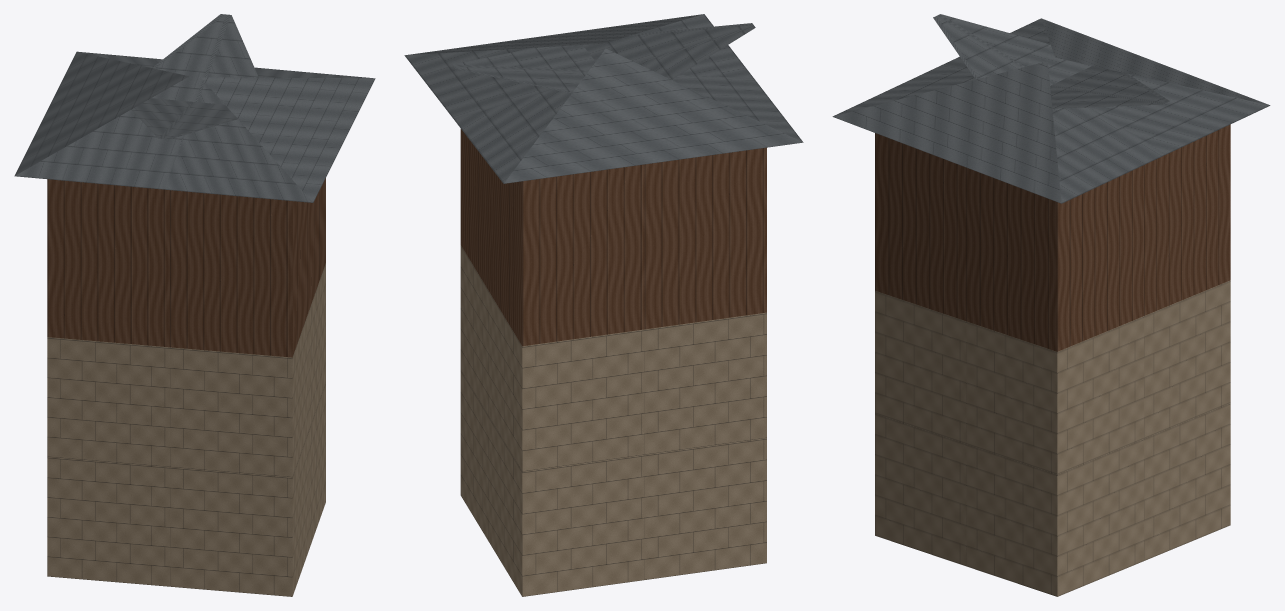
File: bld_c-5_25_608.gltf
The picture shows the model from 3 angles, left to right: view 1: azimuth 30°, elevation 25°; view 2: azimuth 150°, elevation 25°; view 3: azimuth 270°, elevation 25°; orthographic projection. The views are drawn at different scales.
Visible parts, largest first — view 1: bld_c-5_25_608; view 2: bld_c-5_25_608; view 3: bld_c-5_25_608.
Boxes of the visible parts, bbox=[...] form: bld_c-5_25_608: bbox=[14, 14, 375, 596]; bld_c-5_25_608: bbox=[404, 14, 803, 596]; bld_c-5_25_608: bbox=[832, 14, 1270, 596].
Size of the model in its own units: 7.69 by 9.1 by 7.69.
3 materials, 3 textured.
